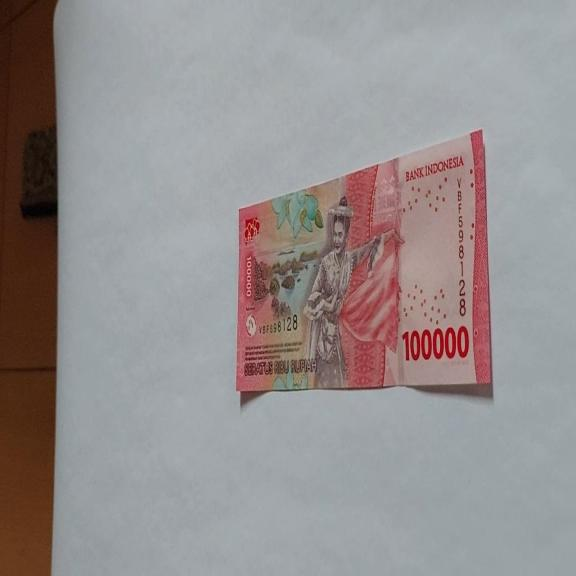Kertas: (235, 127, 493, 398), (401, 324, 470, 362)
